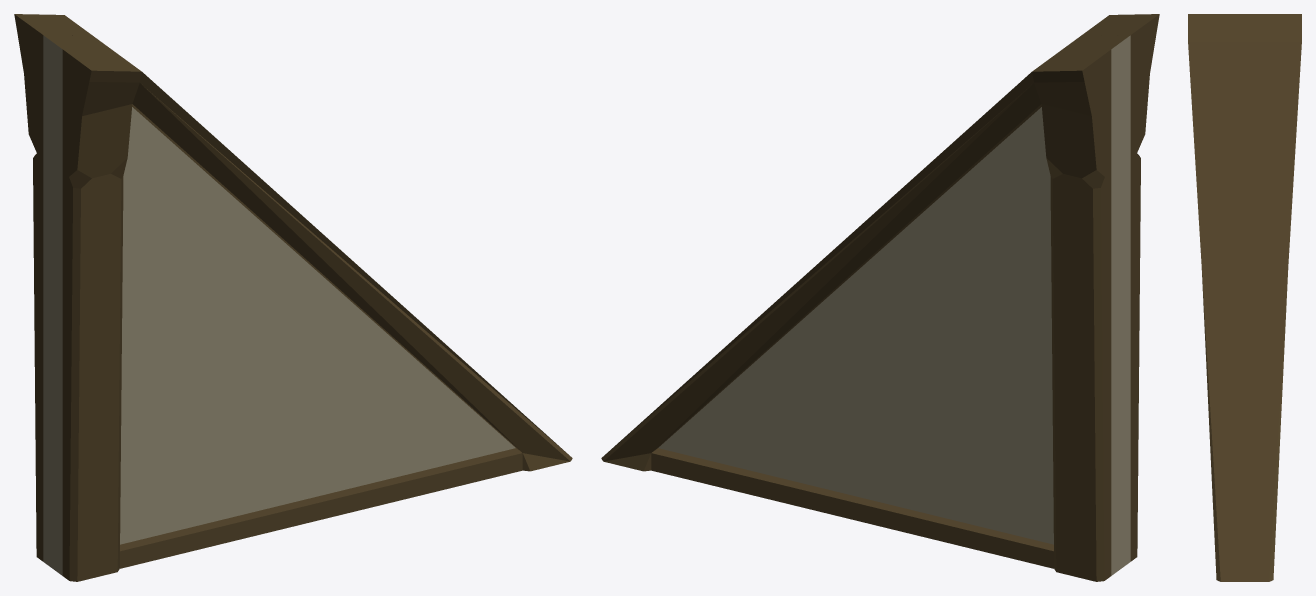
Rendered from fantasy_wall_1_slant.fbx.
The picture shows the model from 3 angles, left to right: view 1: azimuth 30°, elevation 25°; view 2: azimuth 150°, elevation 25°; view 3: azimuth 270°, elevation 25°; orthographic projection. The views are drawn at different scales.
Visible parts, largest first — view 1: Cube.047; view 2: Cube.047; view 3: Cube.047.
Part boxes in pixels (x1=…): Cube.047: x1=14, y1=14, x2=572, y2=581; Cube.047: x1=601, y1=14, x2=1159, y2=581; Cube.047: x1=1188, y1=14, x2=1301, y2=581.
Size of the model in its own units: 300 by 300 by 80.
